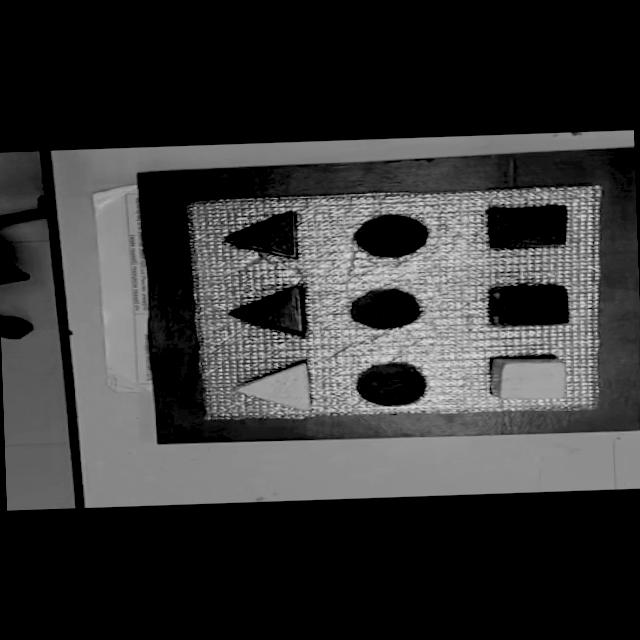bcube: (486, 203, 571, 250)
btriangle: (221, 208, 301, 262)
mtcircle: (351, 212, 429, 258), (354, 360, 428, 408), (346, 286, 422, 331)
rcube: (486, 282, 572, 328)
rtriangle: (226, 284, 308, 338)
wb: (183, 184, 608, 425)
ycube: (488, 354, 568, 402)
ytriangle: (232, 360, 316, 414)
